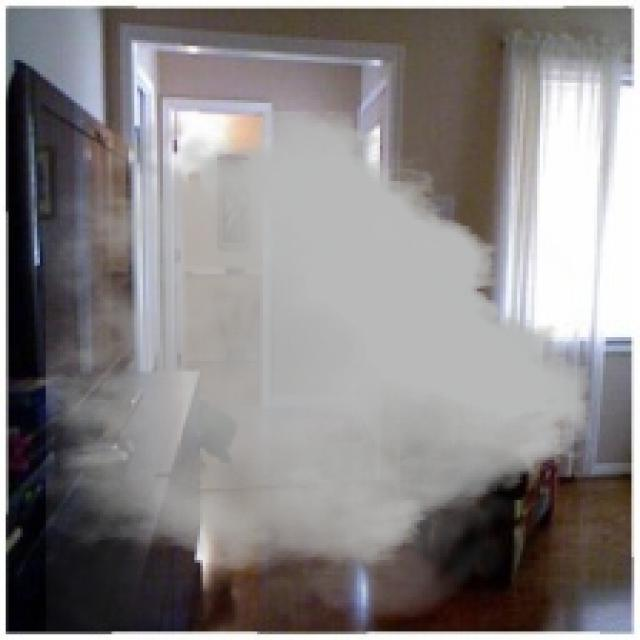Smoke: (46, 103, 592, 632)
